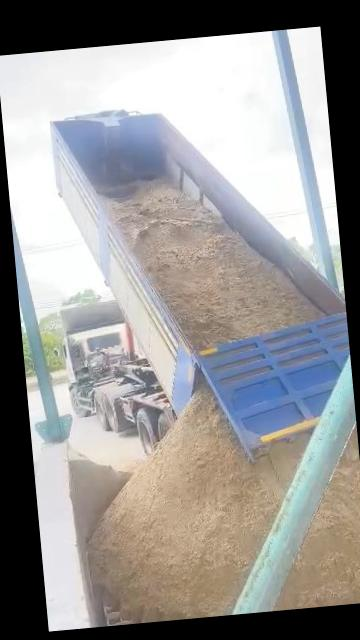sand: (89, 390, 305, 623), (107, 180, 322, 349), (278, 452, 360, 609), (70, 450, 142, 539)
